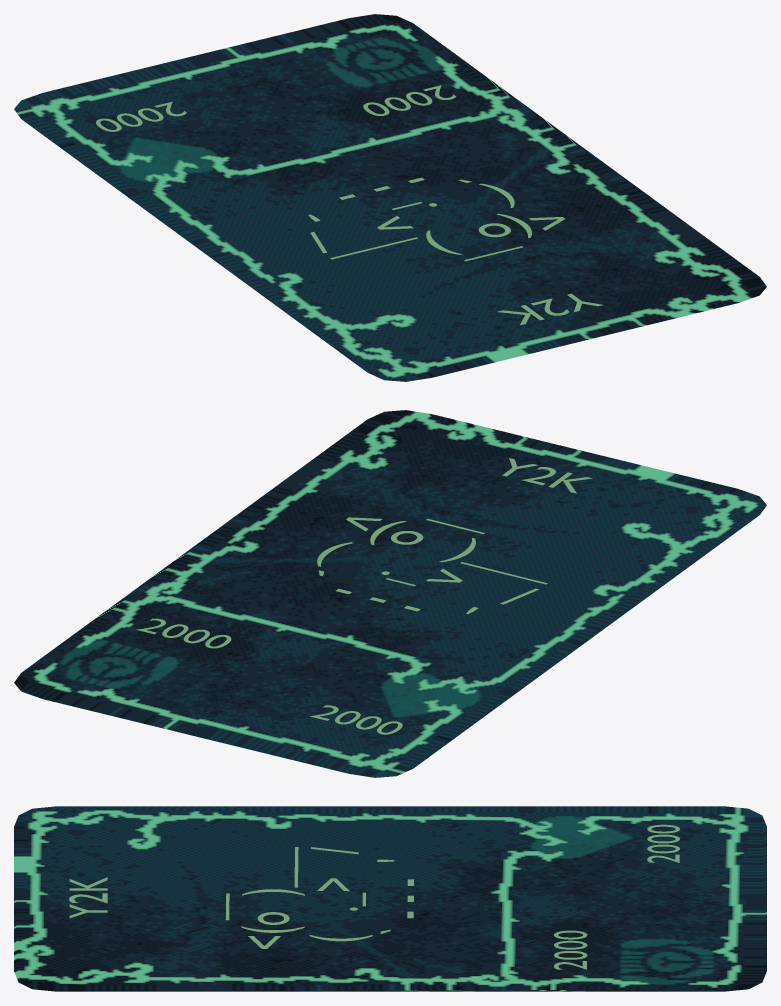
3 views of the same model, one above another, from view 1: azimuth 30°, elevation 25°; view 2: azimuth 150°, elevation 25°; view 3: azimuth 270°, elevation 25° (orthographic). The views are drawn at different scales.
Parts seen in each view (by area): view 1: Y2K; view 2: Y2K; view 3: Y2K.
Boxes of the visible parts, left/top/right/bottom form: Y2K: left=14, top=14, right=766, bottom=381; Y2K: left=14, top=410, right=766, bottom=777; Y2K: left=14, top=806, right=766, bottom=991.
Size of what is drawn, in the model's own units: 44.93 by 0.4028 by 77.22.
2 materials, 1 textured.
